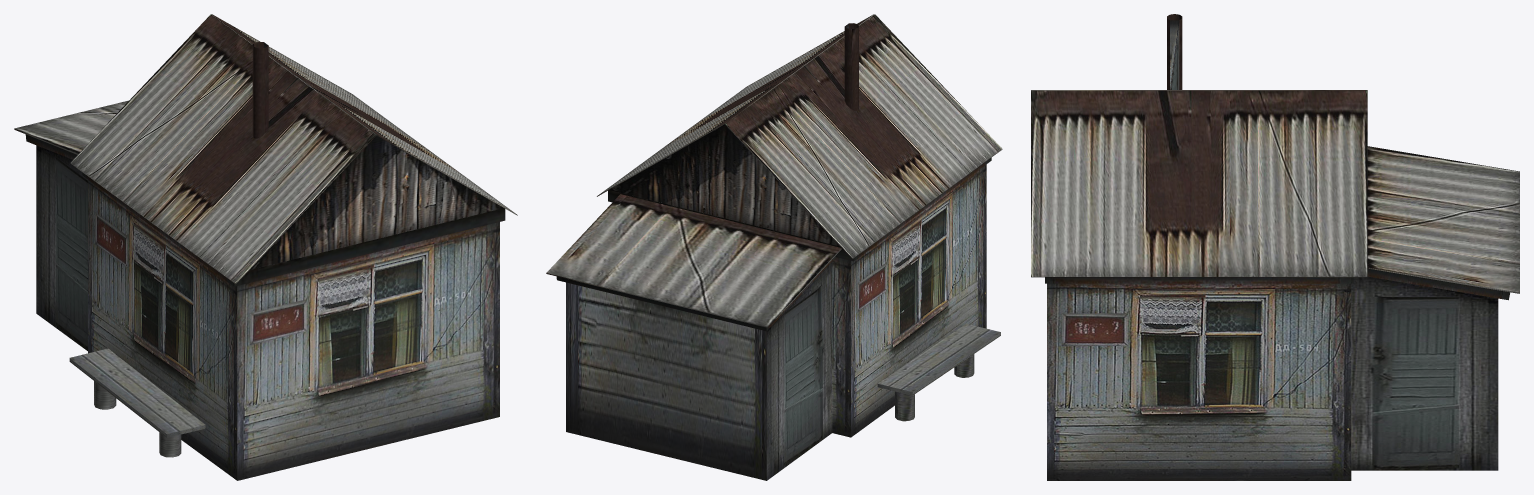
File: sibir_budka6.FBX
3 renders of one model, left to right at view 1: azimuth 30°, elevation 25°; view 2: azimuth 150°, elevation 25°; view 3: azimuth 270°, elevation 25°, orthographic. The views are drawn at different scales.
Visible parts, largest first — view 1: sibir_budka6; view 2: sibir_budka6; view 3: sibir_budka6.
Boxes of the visible parts, left/top/right/bottom form: sibir_budka6: left=14, top=14, right=517, bottom=480; sibir_budka6: left=546, top=14, right=1002, bottom=480; sibir_budka6: left=1031, top=14, right=1519, bottom=480.
Size of the model in its own units: 3.74 by 4.93 by 4.18.
